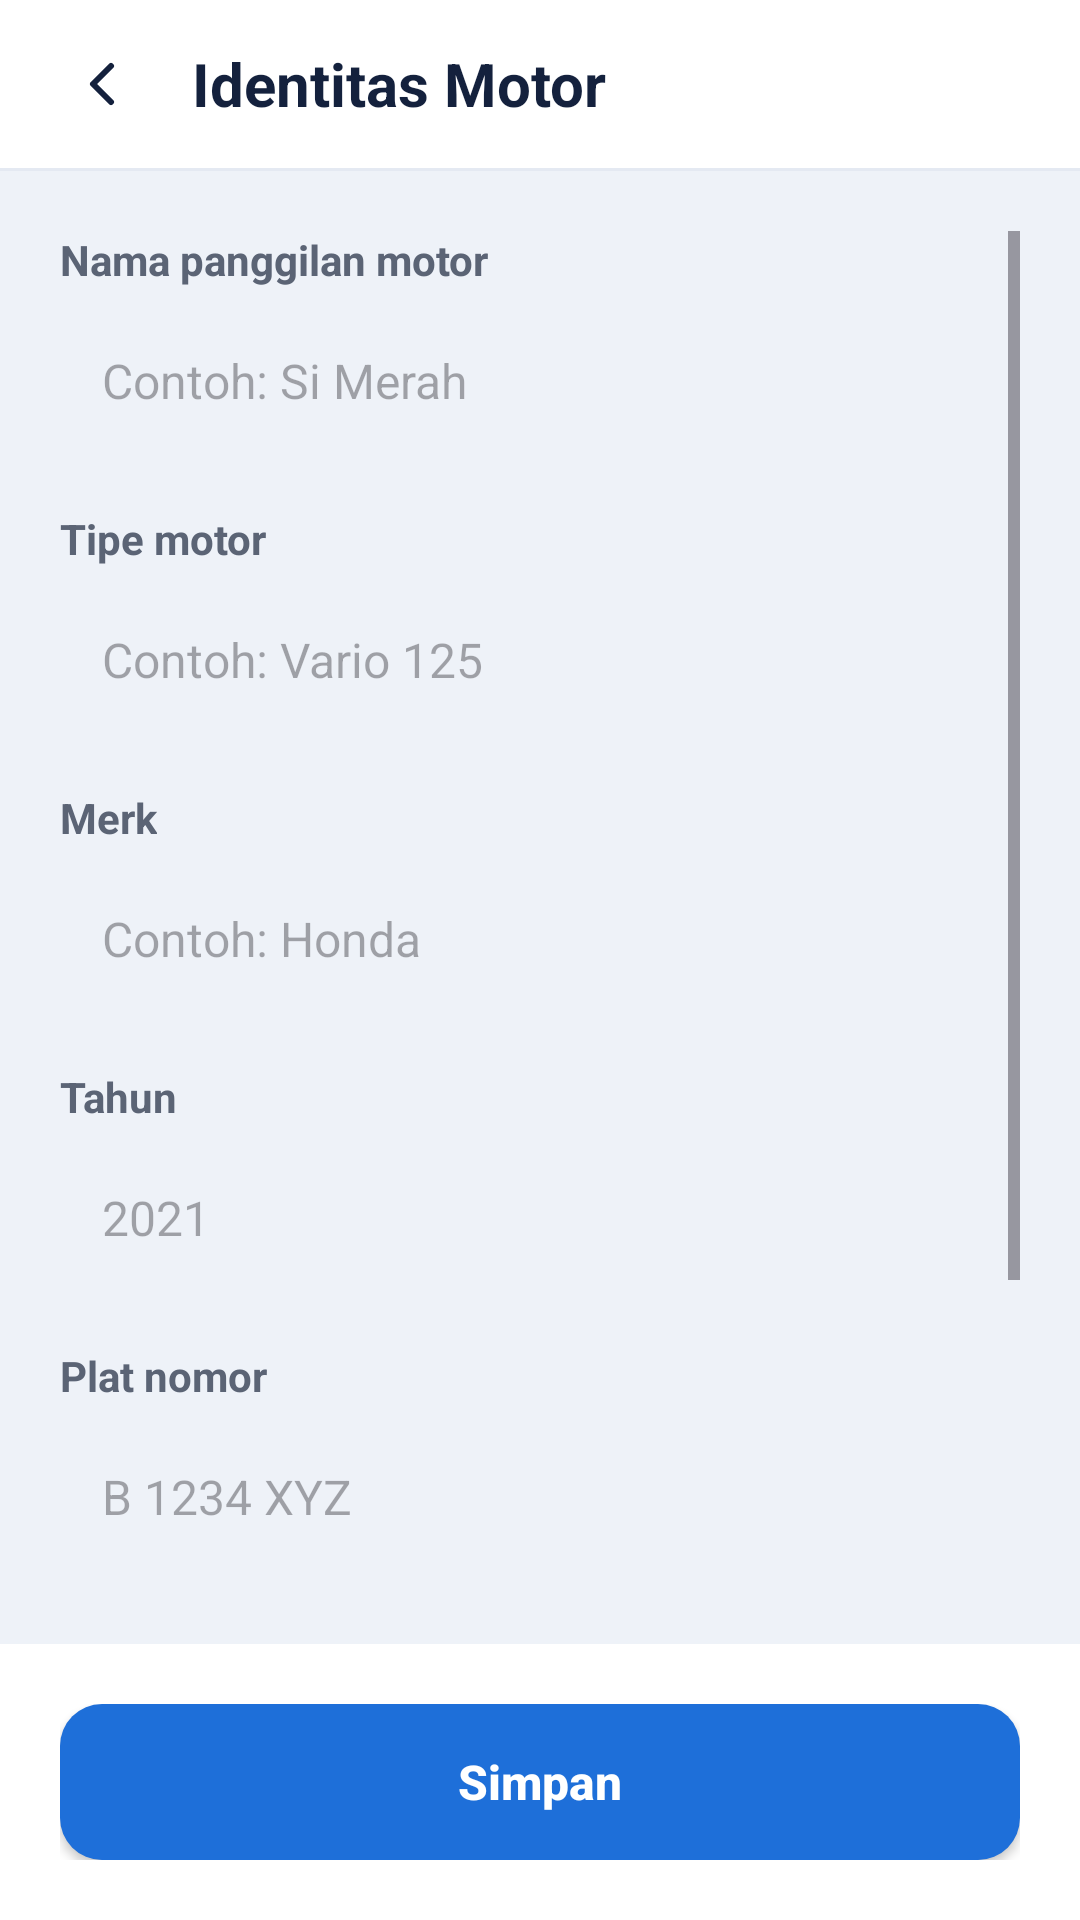

Icons on this 1080x1920 Android screen, each with the point to tap as point (x, y):
Kembali: point (102, 84)
